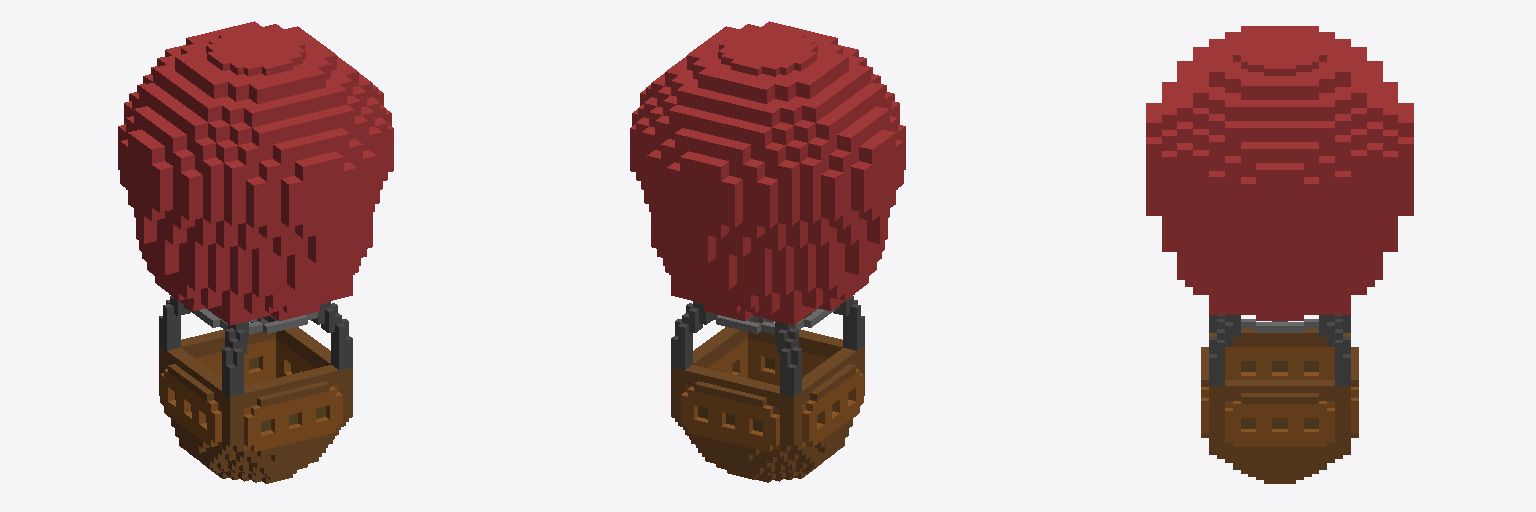
3 renders of one model, left to right at view 1: azimuth 30°, elevation 25°; view 2: azimuth 150°, elevation 25°; view 3: azimuth 270°, elevation 25°, orthographic.
Visible parts, largest first — view 1: object 1; view 2: object 1; view 3: object 1.
Boxes of the visible parts, box(x1,y1,x2,y2) form: object 1: box(118, 21, 393, 483); object 1: box(630, 21, 905, 482); object 1: box(1146, 26, 1413, 483).
Size of the model in its own units: 3.4 by 5.8 by 3.4.
1 materials, 1 textured.